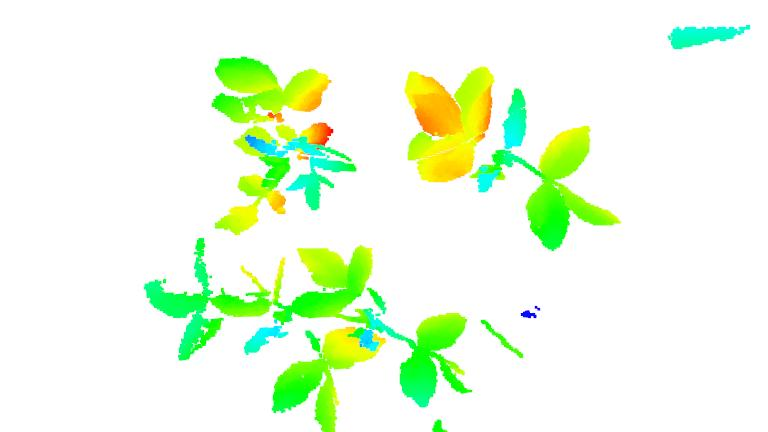mungbean: (147, 238, 379, 430), (398, 64, 629, 248), (286, 245, 477, 406), (203, 51, 364, 237)
